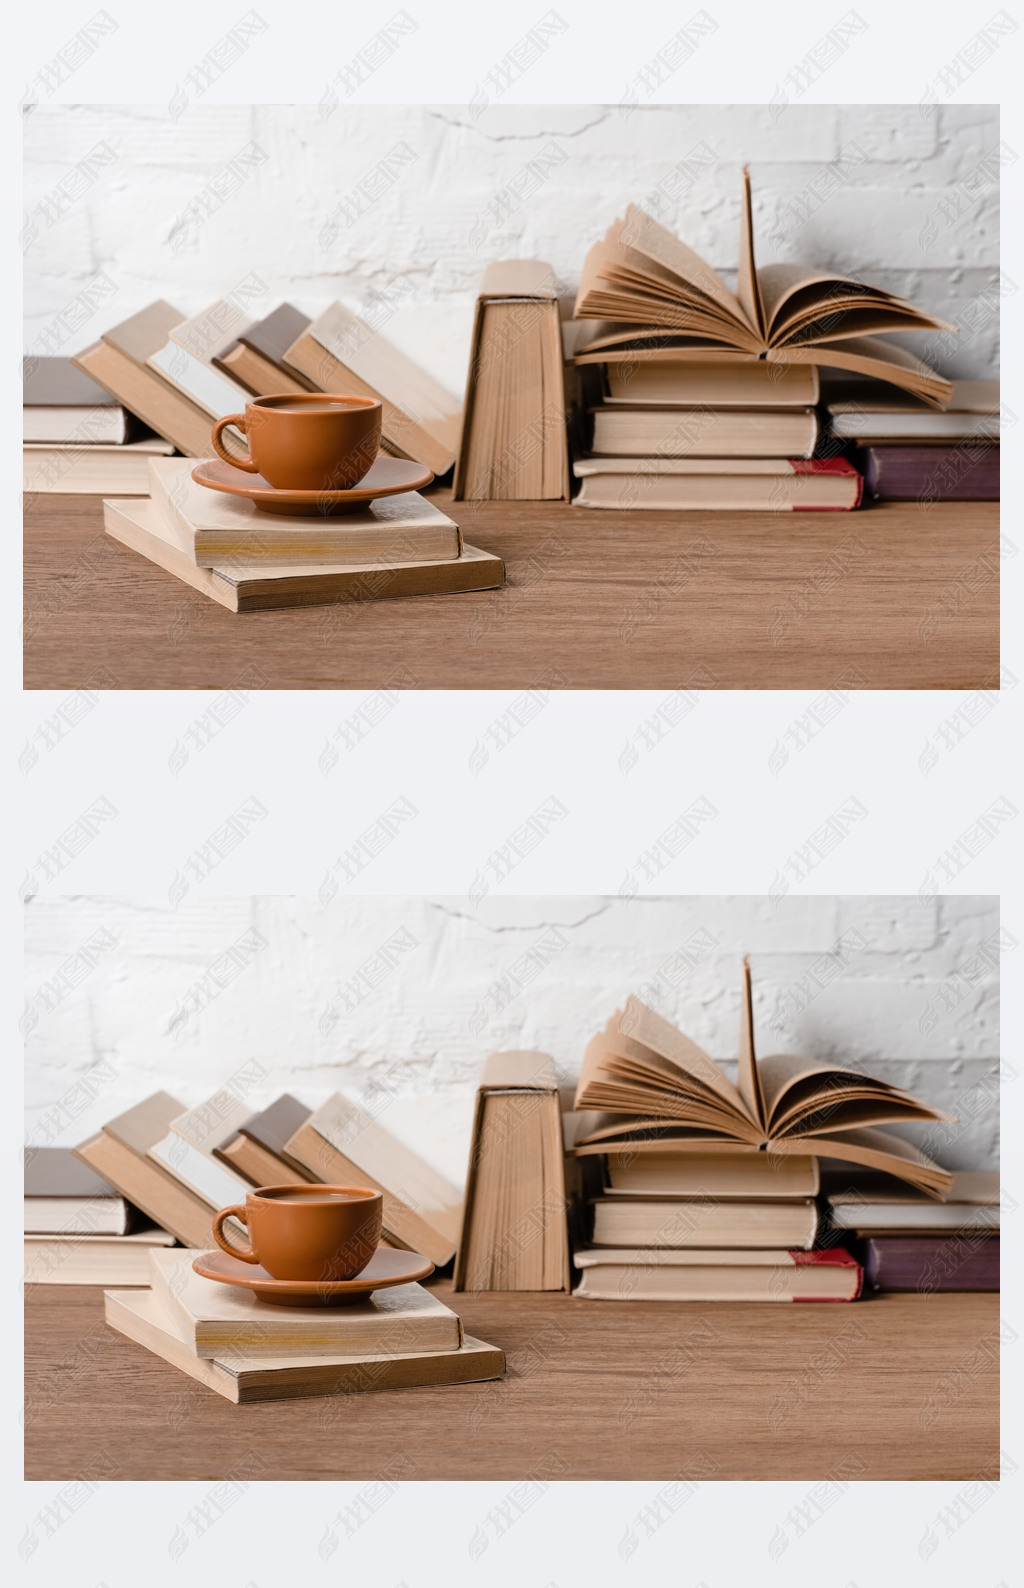book: (557, 157, 970, 413), (562, 966, 988, 1190), (108, 517, 547, 633), (125, 1296, 485, 1421), (441, 1038, 583, 1294), (441, 247, 574, 514), (69, 309, 223, 473), (15, 1139, 155, 1237), (842, 1232, 1005, 1302)
